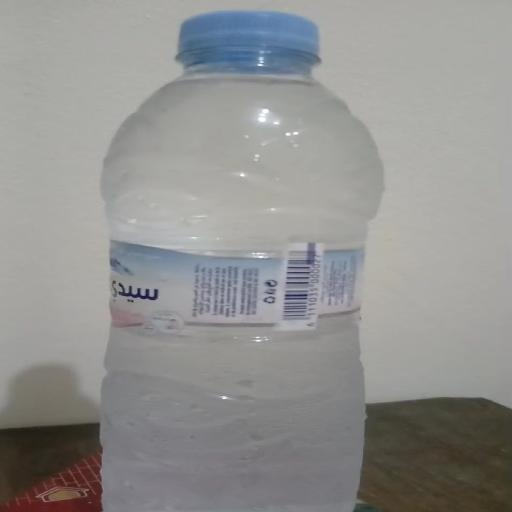bouteille conformite: (103, 12, 361, 511), (178, 11, 318, 72), (243, 453, 359, 511), (327, 421, 351, 443)
